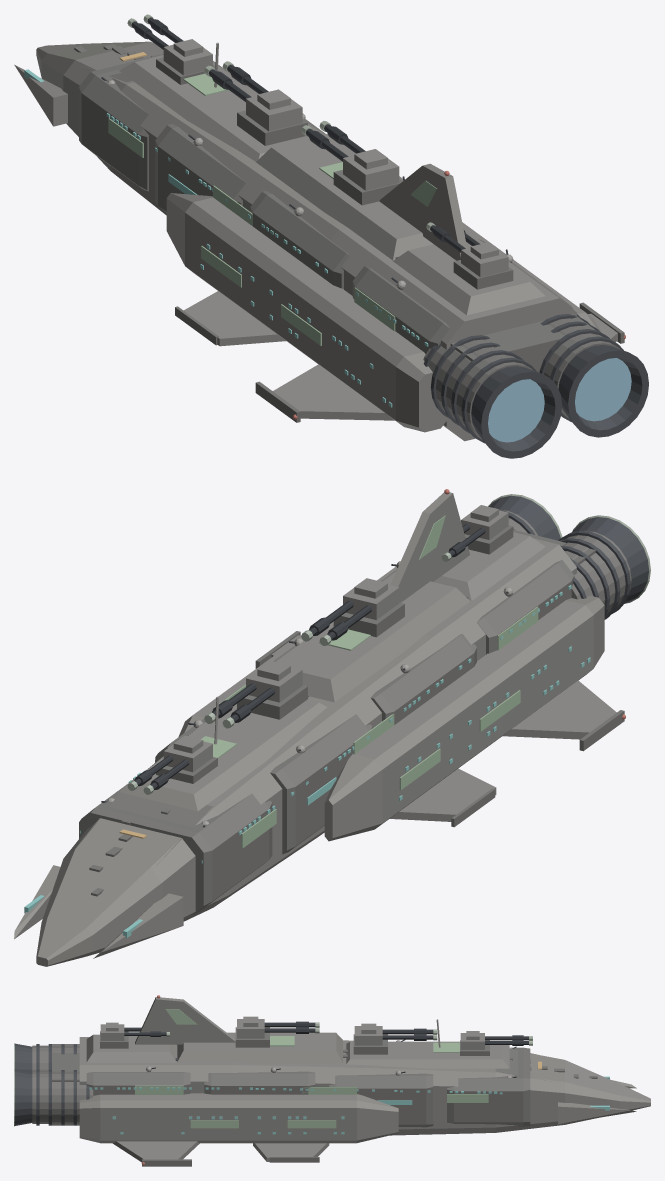
The model's file is bane-warden.glb.
3 views of the same model, one above another, from view 1: azimuth 30°, elevation 25°; view 2: azimuth 150°, elevation 25°; view 3: azimuth 270°, elevation 25° (orthographic). The views are drawn at different scales.
Parts seen in each view (by area): view 1: sponson_000, main_hull_000, armor_band_000, upper_deck_000, engine_bell_000, wing_000, turret_housing_000, engine_glow_000, engine_band_000, dorsal_fin_000, engine_housing_000, panel_stripe_000 (+6 smaller); view 2: main_hull_000, sponson_000, armor_band_000, upper_deck_000, wing_000, turret_housing_000, dorsal_fin_000, panel_stripe_000, engine_bell_000, turret_base_000, ion_barrel_000, prow_prong_000 (+6 smaller); view 3: sponson_000, main_hull_000, armor_band_000, upper_deck_000, dorsal_fin_000, panel_stripe_000, engine_housing_000, wing_000, turret_housing_000, ion_barrel_000, engine_bell_000, turret_base_000 (+7 smaller).
Part boxes in pixels (box(x1,y1,x2,y2)): sponson_000: box(166, 176, 601, 432); main_hull_000: box(36, 41, 576, 441); armor_band_000: box(79, 54, 573, 353); upper_deck_000: box(119, 55, 545, 315); engine_bell_000: box(471, 345, 648, 458); wing_000: box(184, 291, 617, 420); turret_housing_000: box(163, 39, 508, 277); engine_glow_000: box(488, 358, 631, 442); engine_band_000: box(423, 314, 623, 443); dorsal_fin_000: box(379, 163, 467, 260); engine_housing_000: box(423, 318, 620, 439); panel_stripe_000: box(108, 73, 395, 345); main_hull_000: box(36, 538, 576, 966); sponson_000: box(178, 566, 604, 841); armor_band_000: box(79, 560, 574, 915); upper_deck_000: box(119, 532, 545, 811); wing_000: box(271, 635, 616, 821); turret_housing_000: box(163, 505, 508, 772); dorsal_fin_000: box(390, 492, 469, 602); panel_stripe_000: box(201, 606, 538, 848); engine_bell_000: box(489, 495, 648, 603); turret_base_000: box(156, 525, 513, 783); ion_barrel_000: box(134, 524, 485, 789); prow_prong_000: box(14, 865, 183, 958); sponson_000: box(79, 1093, 398, 1143); main_hull_000: box(79, 1037, 650, 1135); armor_band_000: box(86, 1047, 530, 1127); upper_deck_000: box(86, 1032, 509, 1068); dorsal_fin_000: box(135, 997, 235, 1044); panel_stripe_000: box(135, 1036, 488, 1128); engine_housing_000: box(32, 1045, 93, 1123); wing_000: box(113, 1141, 329, 1162); turret_housing_000: box(100, 1016, 484, 1049); ion_barrel_000: box(124, 1021, 528, 1045); engine_bell_000: box(15, 1043, 32, 1125); turret_base_000: box(100, 1027, 489, 1055).
Bounding box in the file's own units: 1.68 × 1.16 × 4.59.
